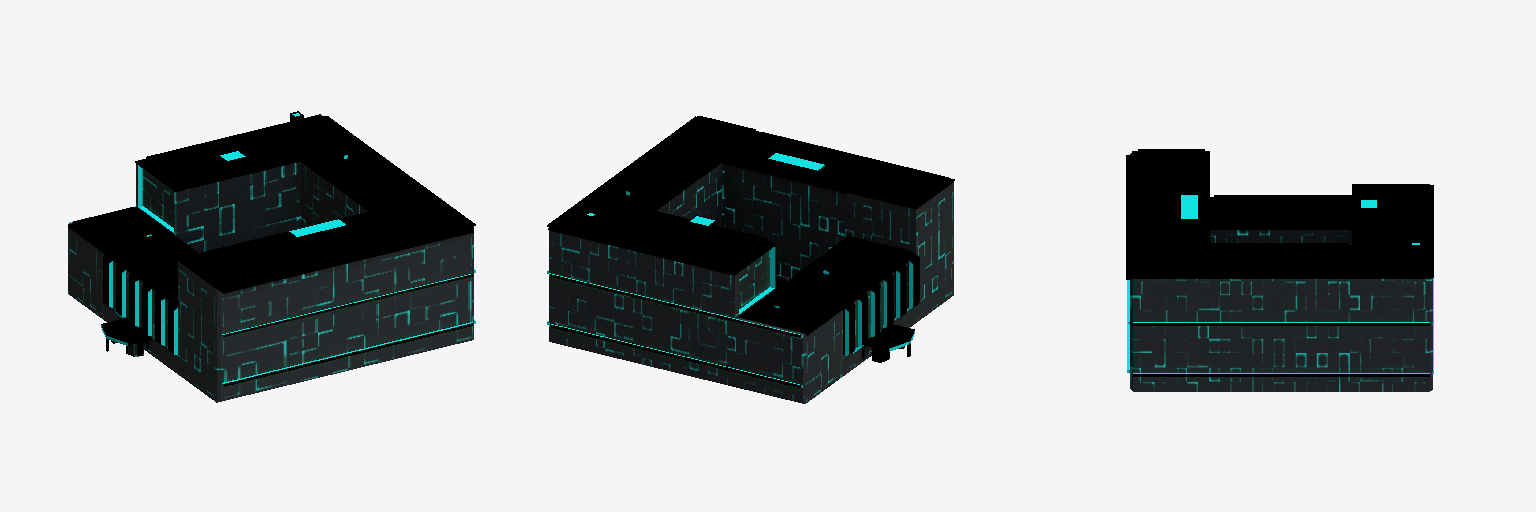
3 renders of one model, left to right at view 1: azimuth 30°, elevation 25°; view 2: azimuth 150°, elevation 25°; view 3: azimuth 270°, elevation 25°, orthographic.
Visible parts, largest first — view 1: Cube.001; view 2: Cube.001; view 3: Cube.001.
Boxes of the visible parts, x1,y1,x2,y2 form: Cube.001: [68, 111, 475, 402]; Cube.001: [547, 116, 954, 403]; Cube.001: [1126, 149, 1433, 391].
Size of the model in its own units: 56.84 by 24.32 by 51.97.
3 materials, 1 textured.